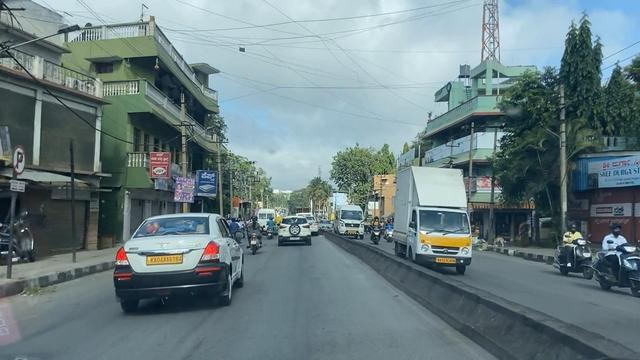LMV: (116, 218, 245, 310), (278, 218, 311, 246), (250, 213, 262, 253)
